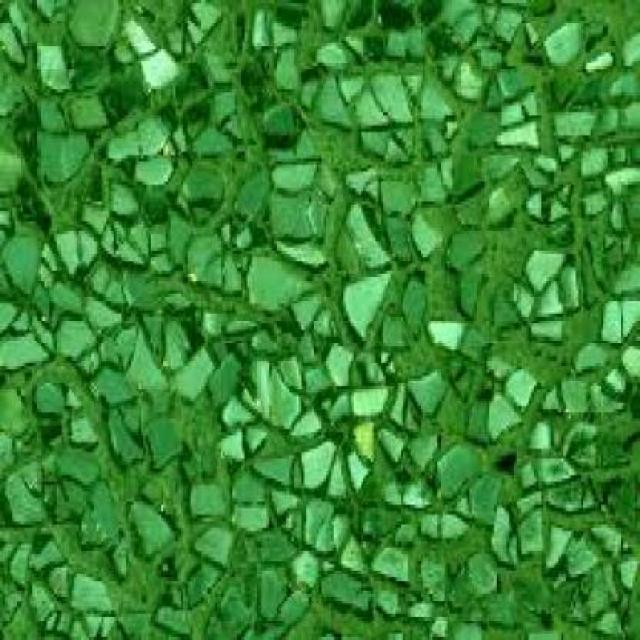kaca: (0, 0, 638, 638), (6, 205, 312, 637), (278, 34, 628, 254), (203, 360, 428, 637), (435, 52, 594, 334), (372, 222, 534, 429), (109, 60, 280, 248), (456, 468, 638, 637), (323, 194, 383, 274), (128, 496, 183, 562), (339, 261, 386, 334), (73, 469, 119, 542), (163, 334, 215, 395), (265, 182, 306, 240), (309, 66, 346, 129), (482, 389, 526, 438), (143, 409, 180, 465), (406, 363, 445, 415), (105, 409, 143, 462), (270, 149, 318, 188), (497, 352, 529, 406), (318, 337, 349, 389), (136, 43, 178, 79), (136, 106, 166, 152), (102, 178, 143, 211), (346, 380, 383, 412), (126, 156, 172, 176), (314, 156, 335, 184)
